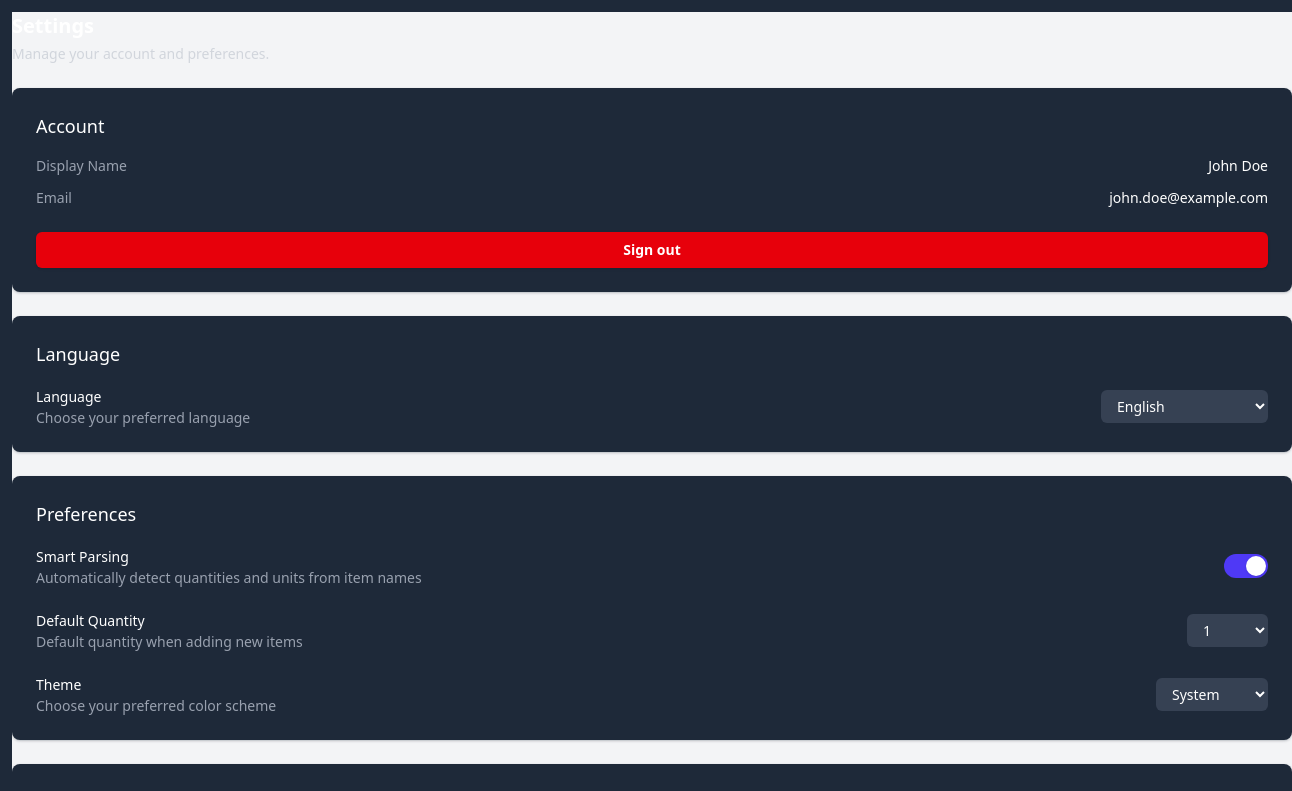
Test: SettingsPage › handles preference save error gracefully
Step 1. Select "Dark" in the dropdown with test id "theme-select" → (1212, 694), box [1156,678,1268,710]
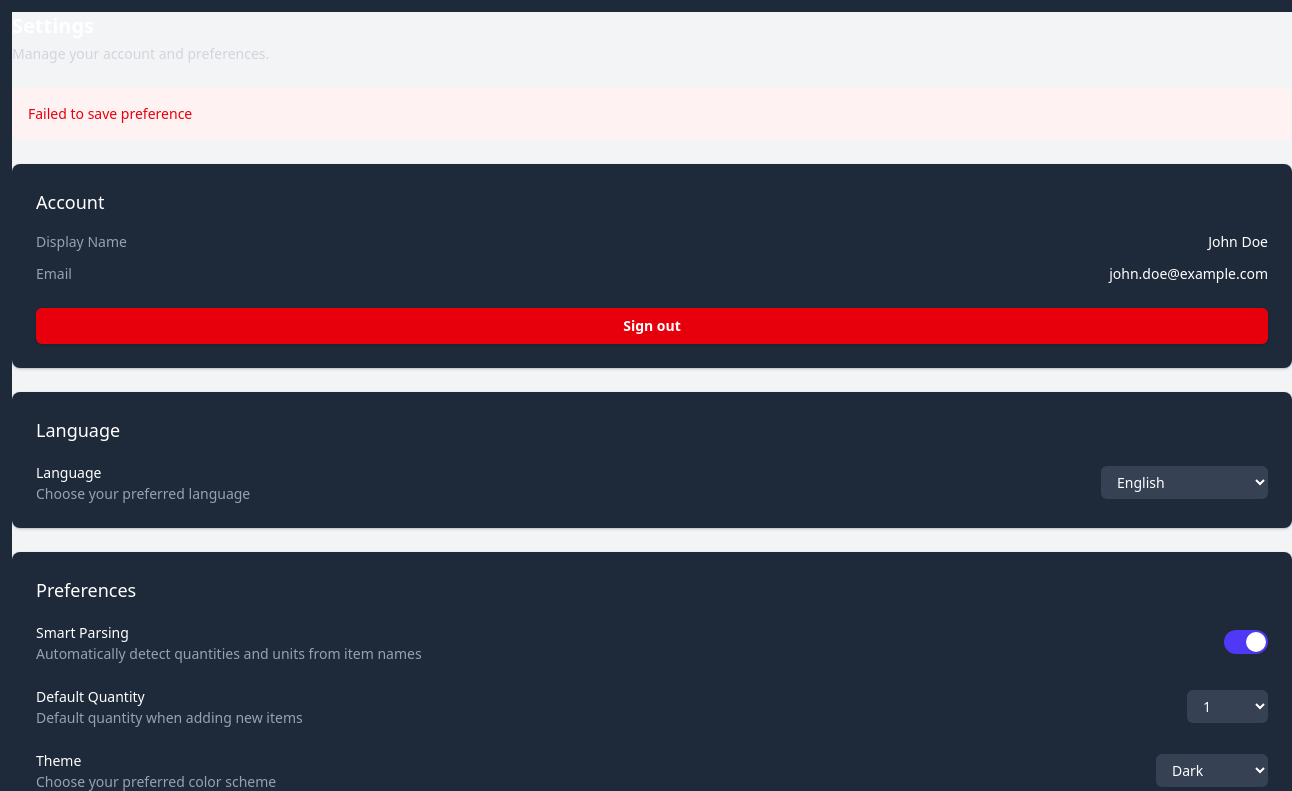
Now the text "Failed to save preference" is shown, box [28,104,192,123]
